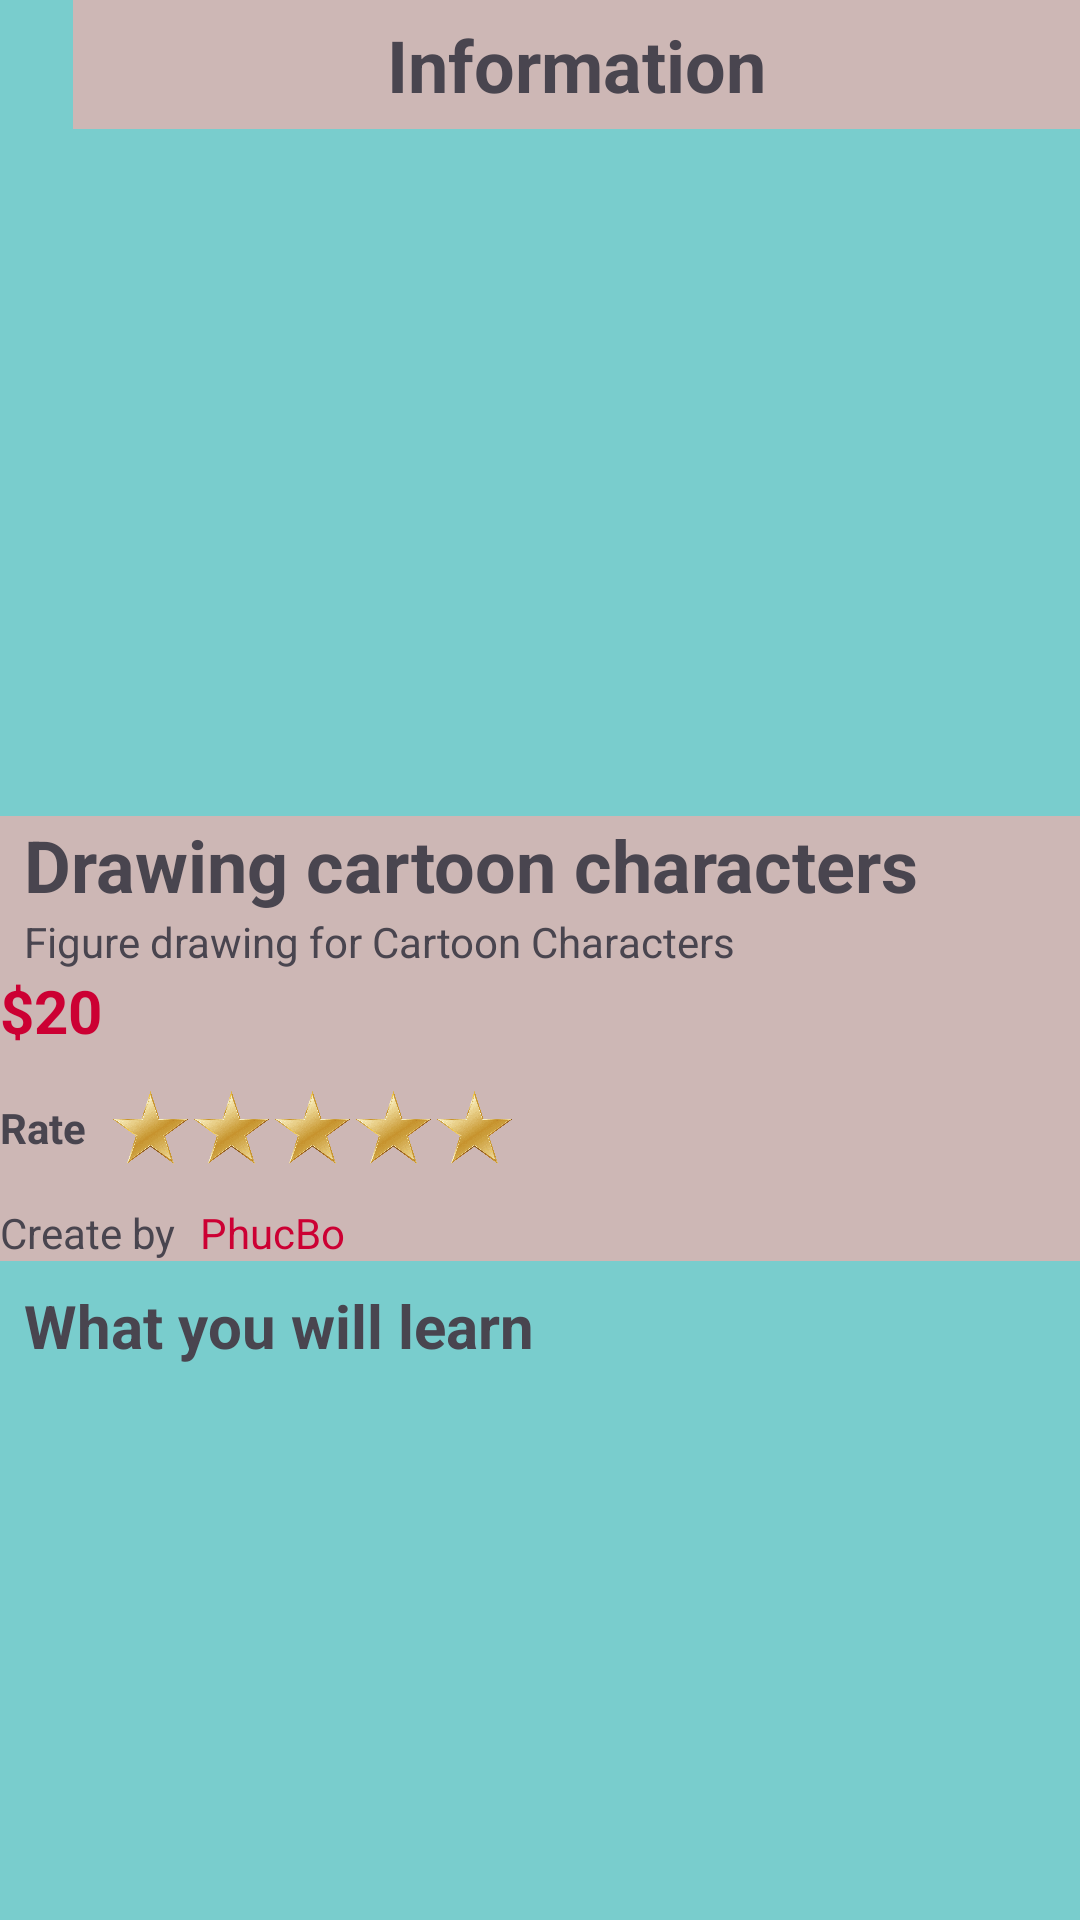

Icon click points for this 1080w x 1920h phone screenshot, format (x,y):
star: (150,1127), (231,1127), (312,1127), (393,1127), (474,1127)
